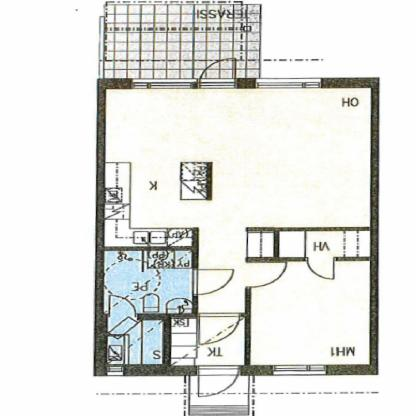door: (196, 314, 243, 345), (188, 270, 239, 295), (195, 366, 240, 394), (247, 263, 292, 290), (304, 256, 344, 283), (194, 57, 235, 82), (110, 296, 138, 316)
window: (270, 363, 329, 372), (254, 81, 320, 89), (134, 82, 192, 90), (108, 367, 121, 373)
zone: (104, 86, 365, 256), (161, 257, 369, 367), (108, 5, 260, 78), (106, 250, 196, 362), (184, 376, 250, 414)
